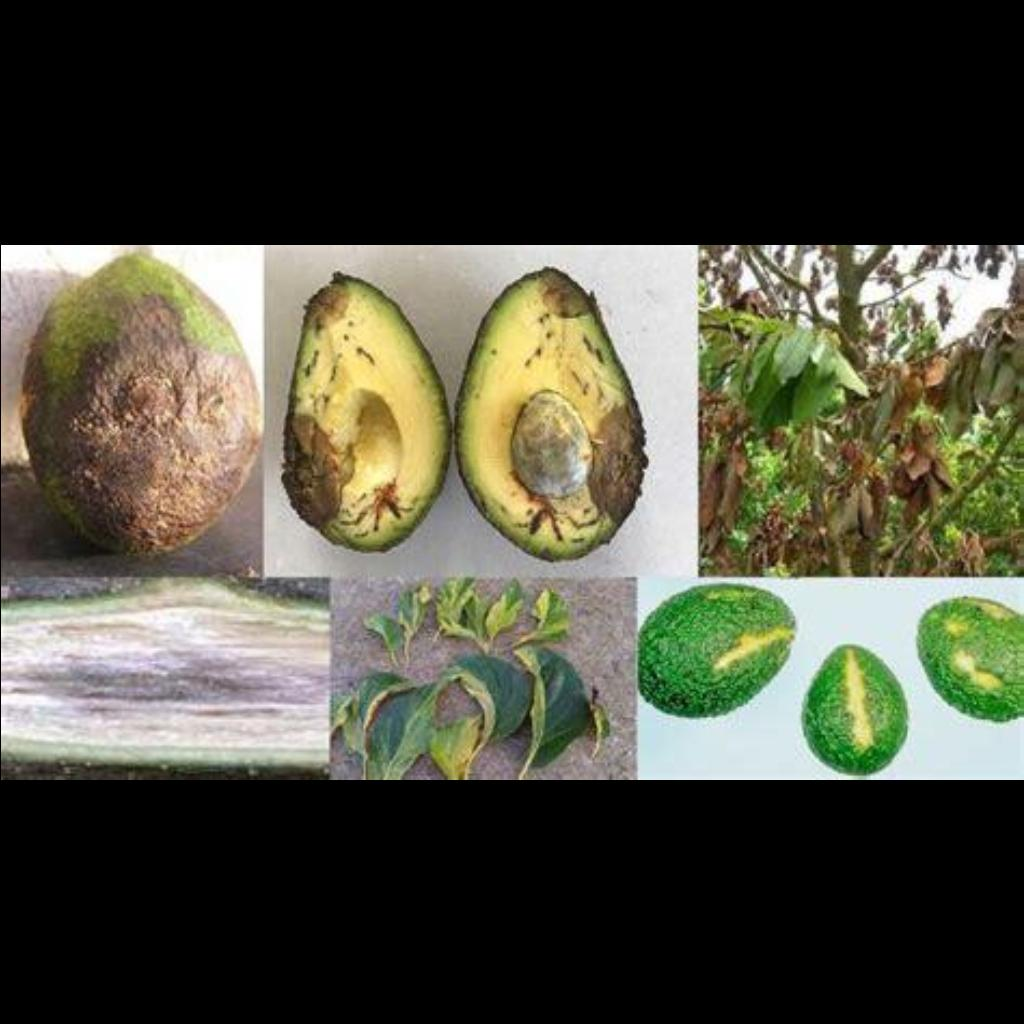Anthracnose: (419, 274, 663, 556)
